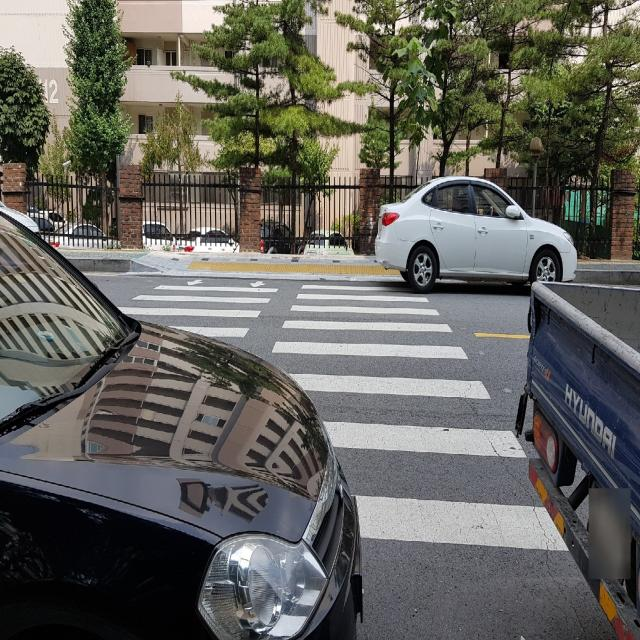횡단보도: (117, 280, 571, 550)
